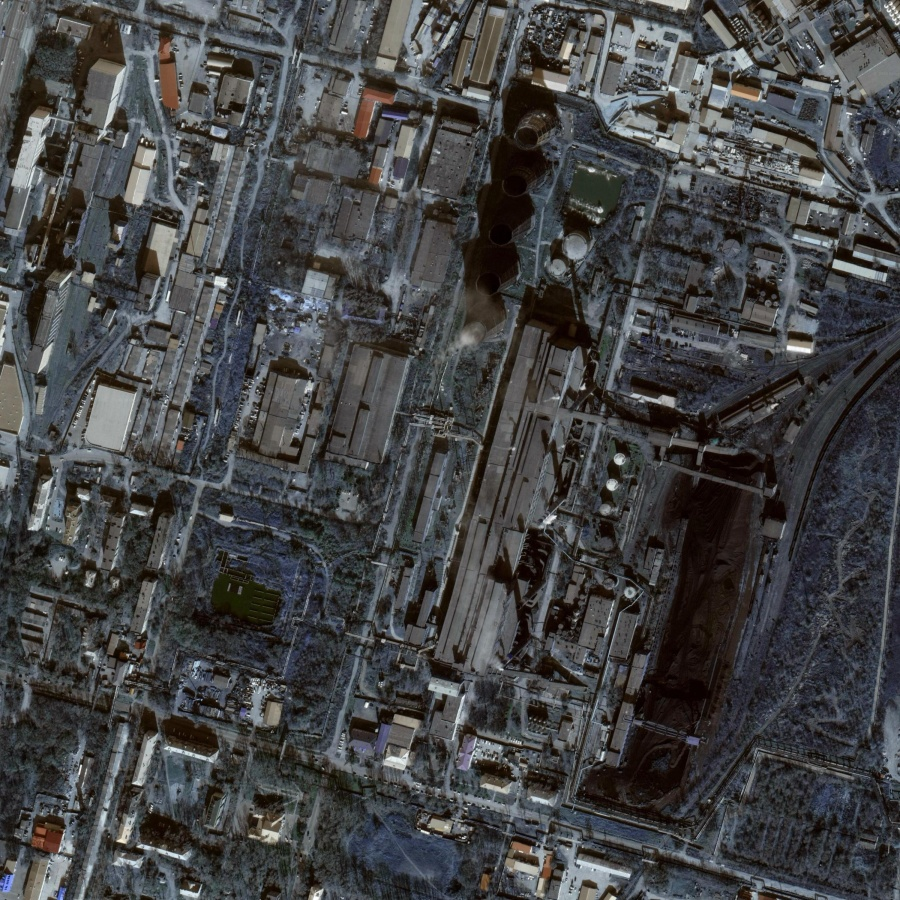PowerPlant: (483, 375, 788, 809), (430, 61, 600, 400)
